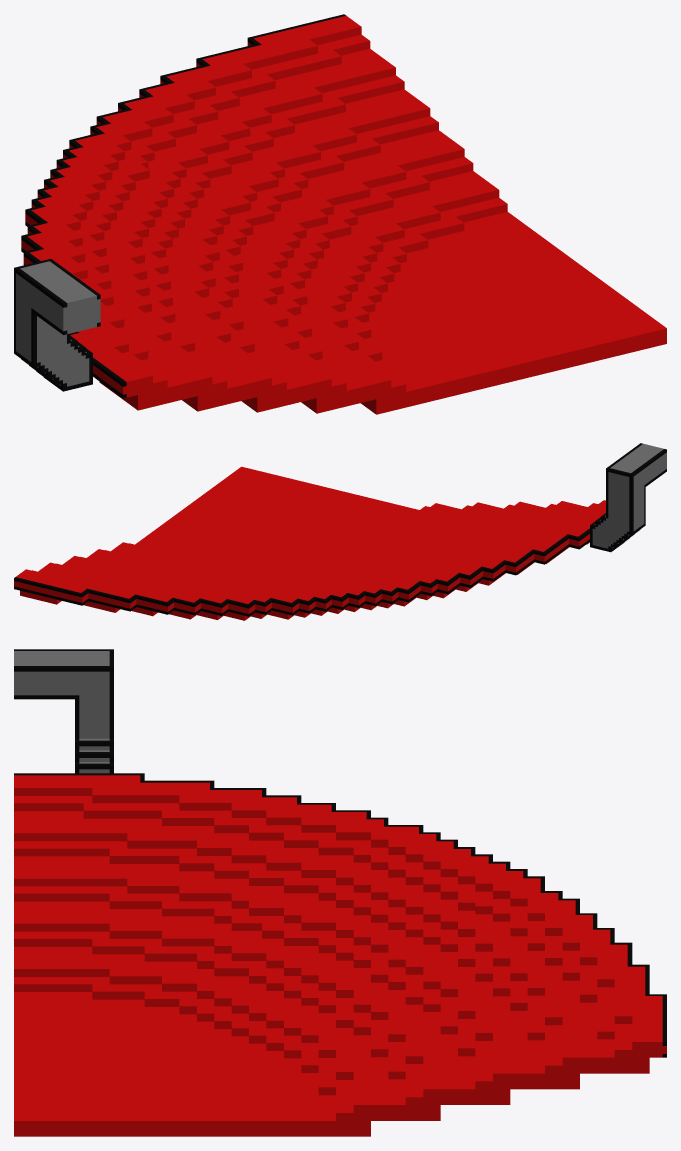
File: Ledianky-2.obj
3 views of the same model, one above another, from view 1: azimuth 30°, elevation 25°; view 2: azimuth 150°, elevation 25°; view 3: azimuth 270°, elevation 25° (orthographic). The views are drawn at different scales.
Size of the model in its own units: 16.2 by 4.8 by 15.
1 material, 1 textured.
